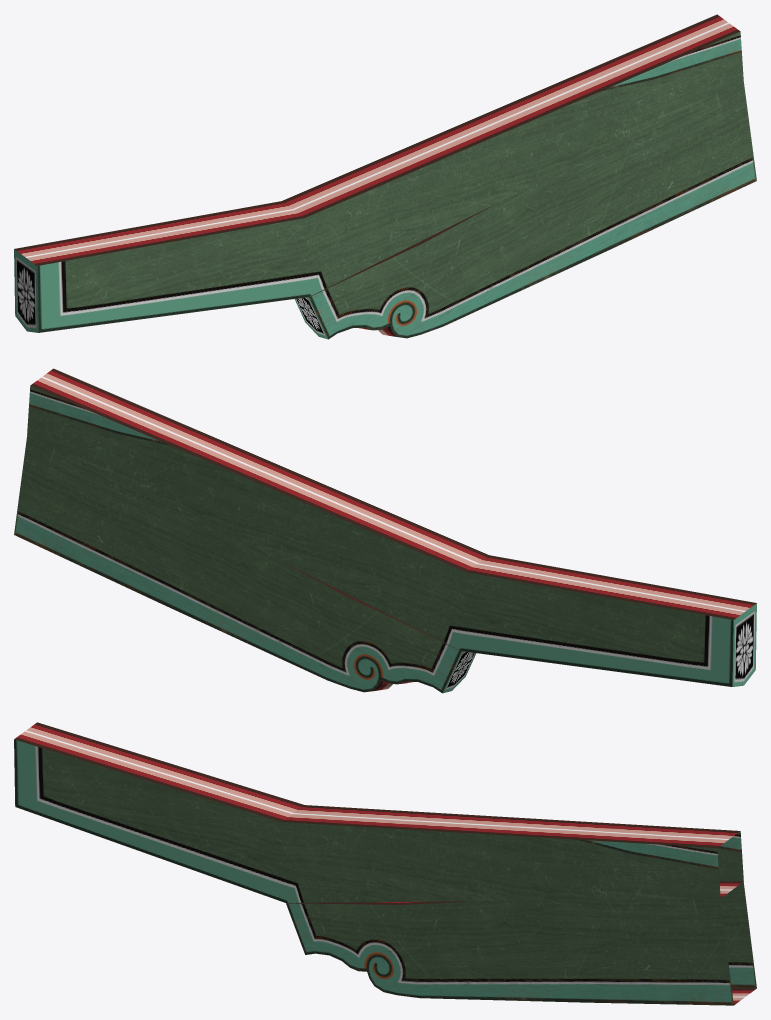
Rendered from SM_AngleRafter03B.fbx.
The picture shows the model from 3 angles, top to bottom: view 1: azimuth 30°, elevation 25°; view 2: azimuth 150°, elevation 25°; view 3: azimuth 330°, elevation 25°; orthographic projection.
Parts seen in each view (by area): view 1: SM_AngleRafter03B; view 2: SM_AngleRafter03B; view 3: SM_AngleRafter03B.
Boxes of the visible parts, x1,y1,x2,y2 form: SM_AngleRafter03B: (14,14,756,339); SM_AngleRafter03B: (14,368,756,693); SM_AngleRafter03B: (14,722,756,1005).
Bounding box in the file's own units: 346 × 19.39 × 107.
Materials: 1 (1 with a texture image).
